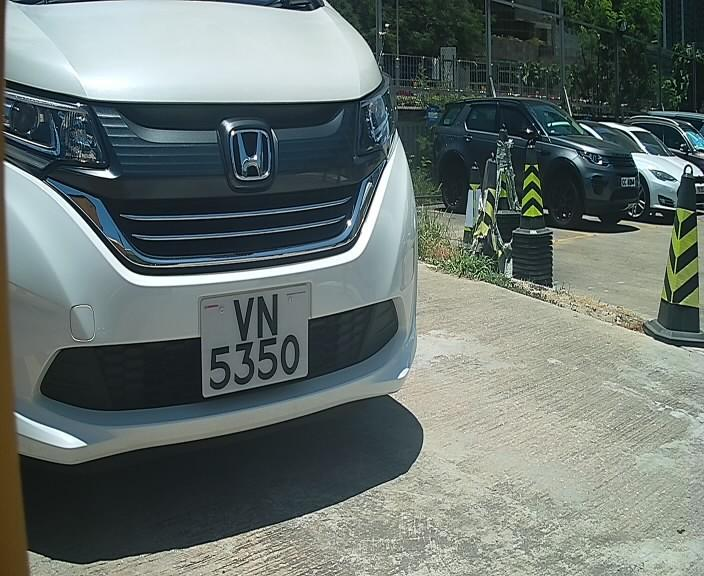privatecar: (5, 1, 453, 523)
